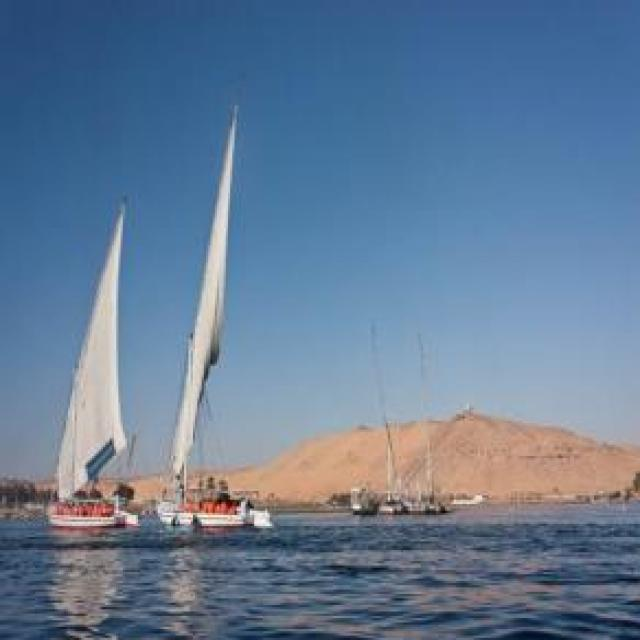sailboat: (159, 100, 277, 524), (45, 187, 143, 531), (346, 325, 411, 518), (394, 331, 450, 516)
